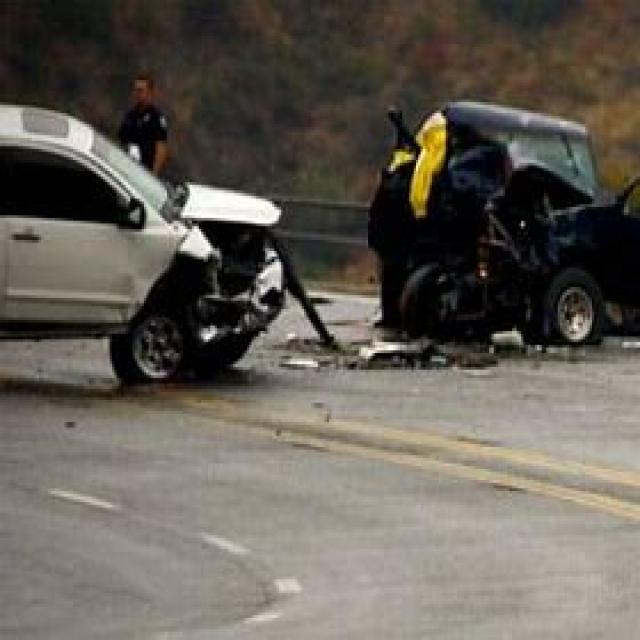Accident: (26, 61, 640, 416)
